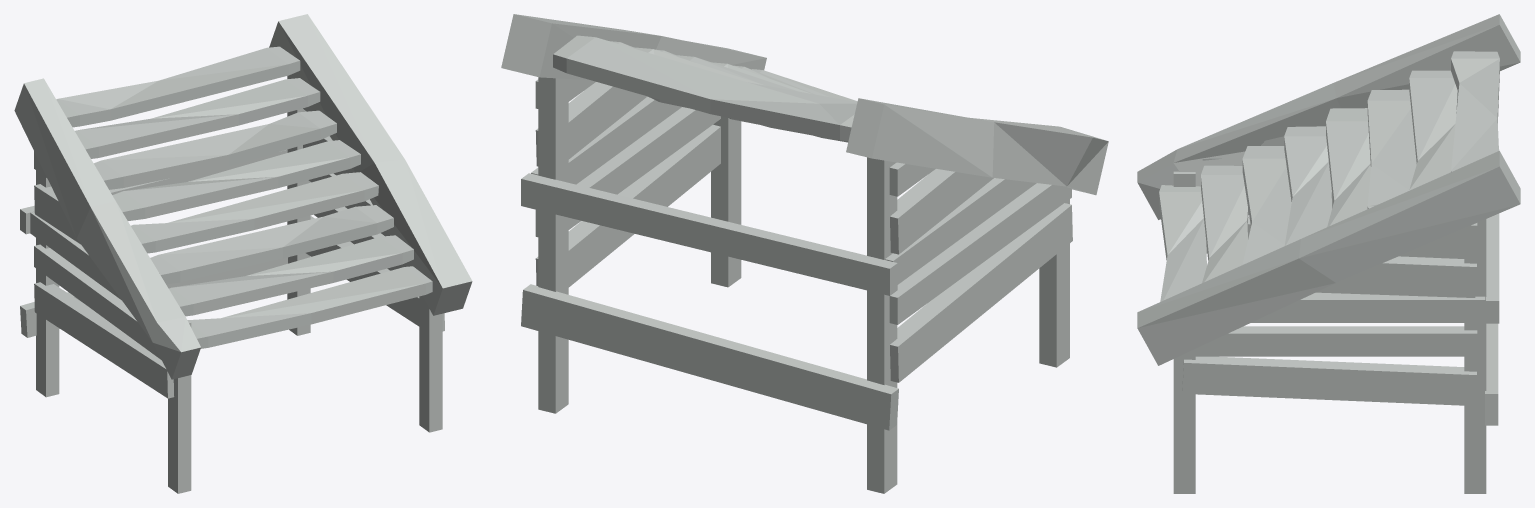
The model's file is SM_Bld_Mansion_Stairs_01.glb.
3 renders of one model, left to right at view 1: azimuth 30°, elevation 25°; view 2: azimuth 150°, elevation 25°; view 3: azimuth 270°, elevation 25°, orthographic. The views are drawn at different scales.
Visible parts, largest first — view 1: SM_Bld_Mansion_Stairs_01_part00; view 2: SM_Bld_Mansion_Stairs_01_part00; view 3: SM_Bld_Mansion_Stairs_01_part00.
Boxes of the visible parts, bbox=[...] form: SM_Bld_Mansion_Stairs_01_part00: bbox=[14, 14, 472, 493]; SM_Bld_Mansion_Stairs_01_part00: bbox=[501, 14, 1108, 493]; SM_Bld_Mansion_Stairs_01_part00: bbox=[1137, 14, 1520, 493].
Size of the model in its own units: 2.86 by 2.73 by 2.83.
Materials: 1 (1 with a texture image).
